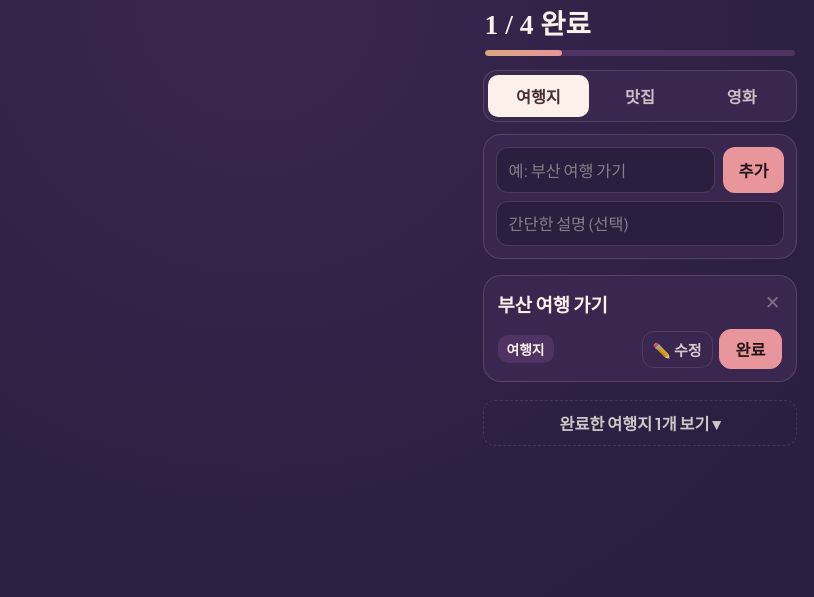
Test: BucketList › switching tabs shows that kind, and the add form follows it
Click the button "맛집".
click(640, 96)  # box [589, 75, 691, 117]
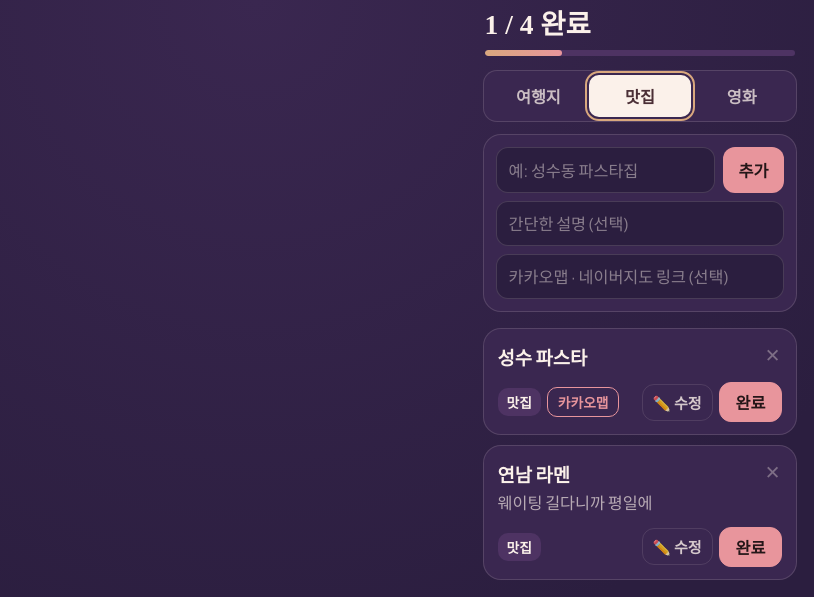
Now the text "성수 파스타" is shown, box [498, 346, 587, 369]
Now the text "부산 여행 가기" is gone
